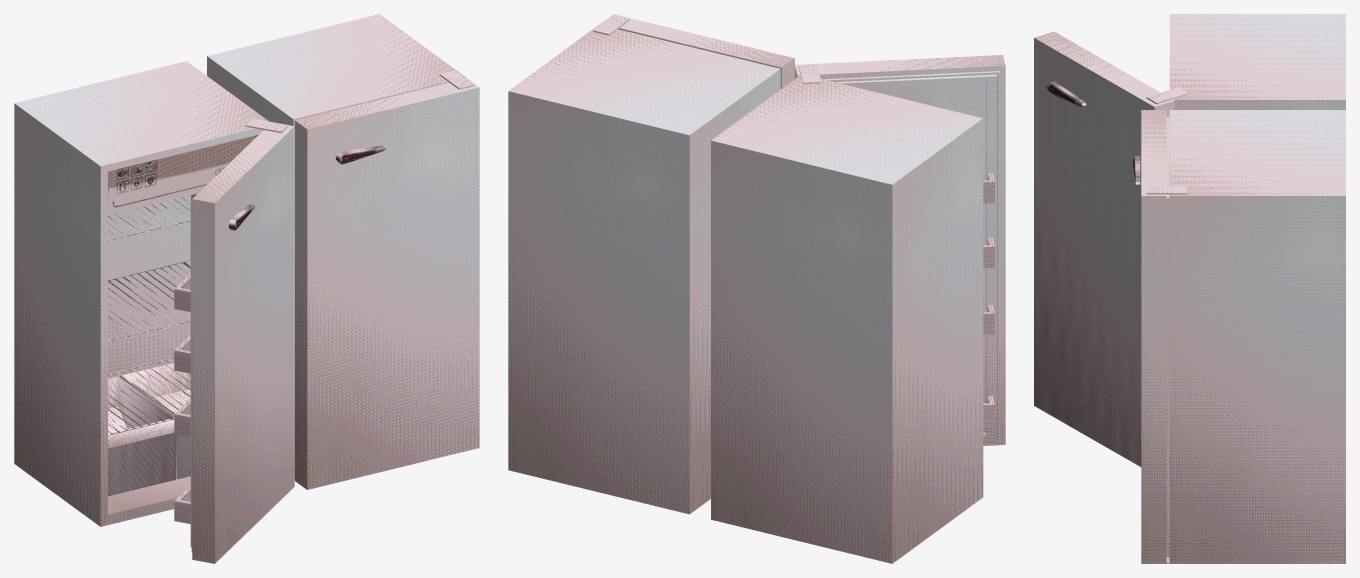
The model's file is freezer.fbx.
3 renders of one model, left to right at view 1: azimuth 30°, elevation 25°; view 2: azimuth 150°, elevation 25°; view 3: azimuth 270°, elevation 25°, orthographic. The views are drawn at different scales.
Visible parts, largest first — view 1: fridge.001, fridge, fridge boxes, fridge boxes.001; view 2: fridge.001, fridge; view 3: fridge, fridge.001.
Part boxes in pixels (bbox=[...]): fridge.001: bbox=[14, 61, 294, 563]; fridge: bbox=[207, 14, 479, 489]; fridge boxes: bbox=[108, 376, 175, 496]; fridge boxes.001: bbox=[120, 362, 190, 479]; fridge.001: bbox=[711, 55, 1005, 563]; fridge: bbox=[508, 14, 794, 514]; fridge: bbox=[1132, 110, 1345, 563]; fridge.001: bbox=[1034, 14, 1345, 466].
Bounding box in the file's own units: 246 × 234 × 178.
